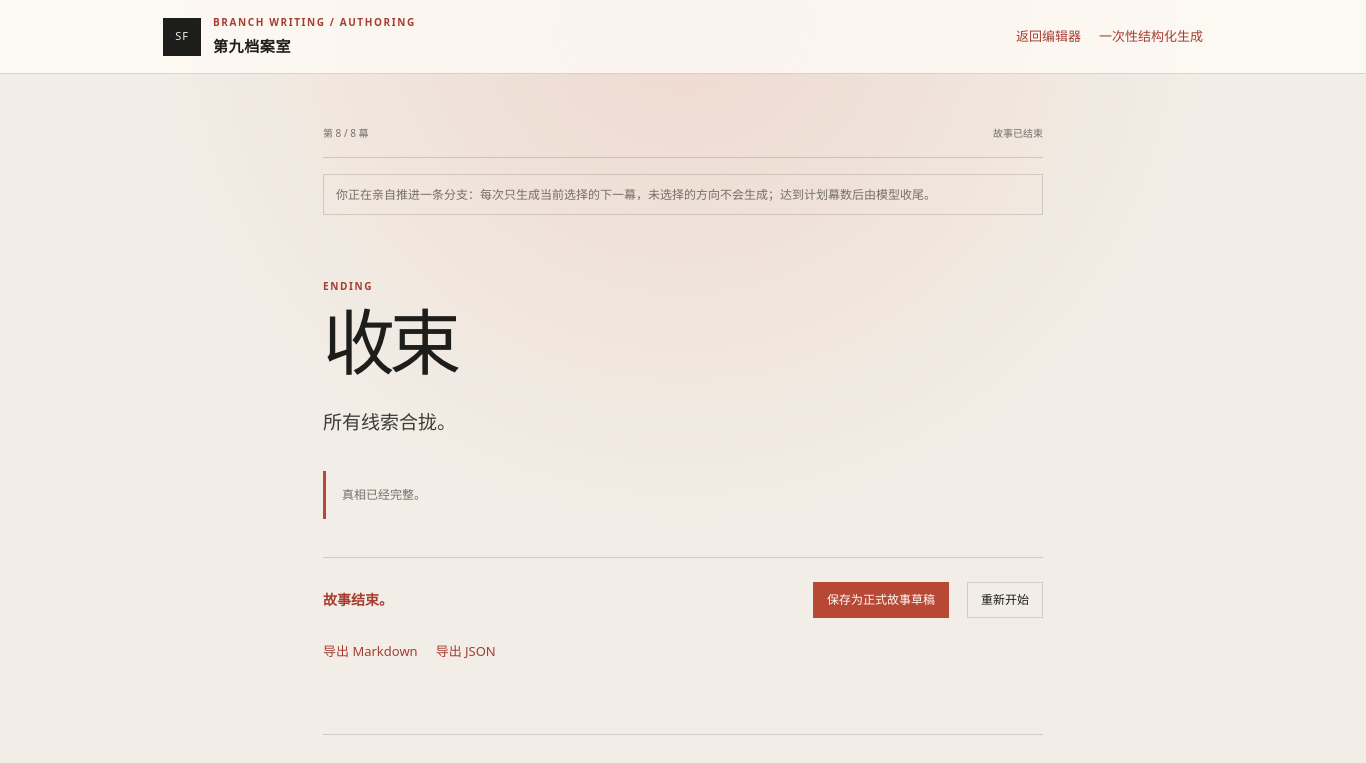
Scenario: InteractivePlayer › keeps the materialized status in history after saving the formal draft
Click the button "保存为正式故事草稿" at (881, 600), box [813,582,949,618]
(page scrolled)
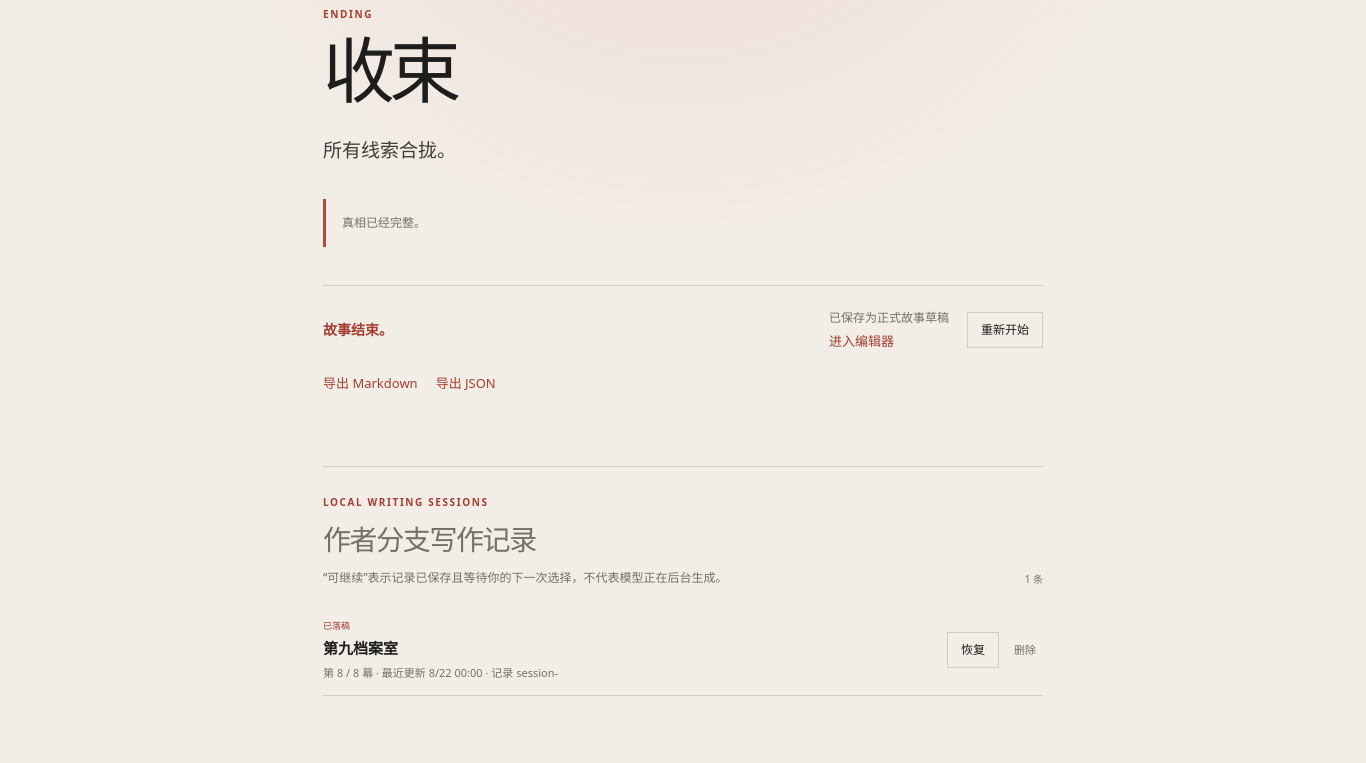
Expected: the text "已保存为正式故事草稿" is shown, [829,310,949,327]
Expected: the text "已落稿" is shown, [323,619,350,632]
